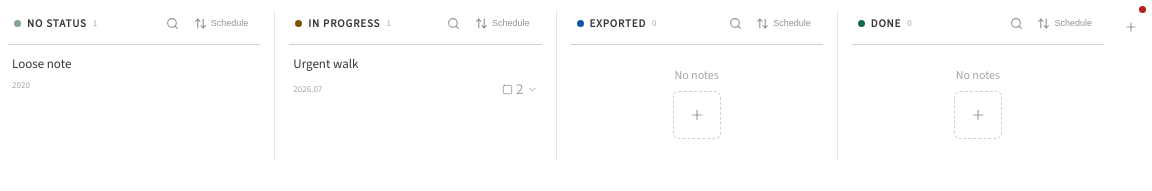
Test case: BoardPane (Wave 4) › pointer-down on expanded card collapses it (drag-start auto-collapse)
Click the button with test id "board-unchecked-badge" at (520, 89), box [502,79,538,99]
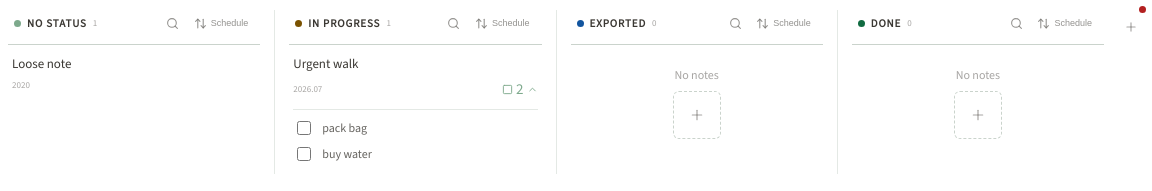
Expected: the element with test id "board-todo-list" is shown, [293,109,538,164]
Press the mouse on the button with test id "board-card" that starts with "Urgent walk" at (415, 110), box [293,55,538,164]
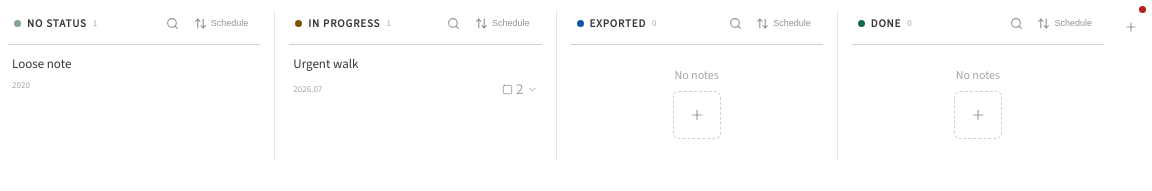
Expected: the element with test id "board-todo-list" is gone
